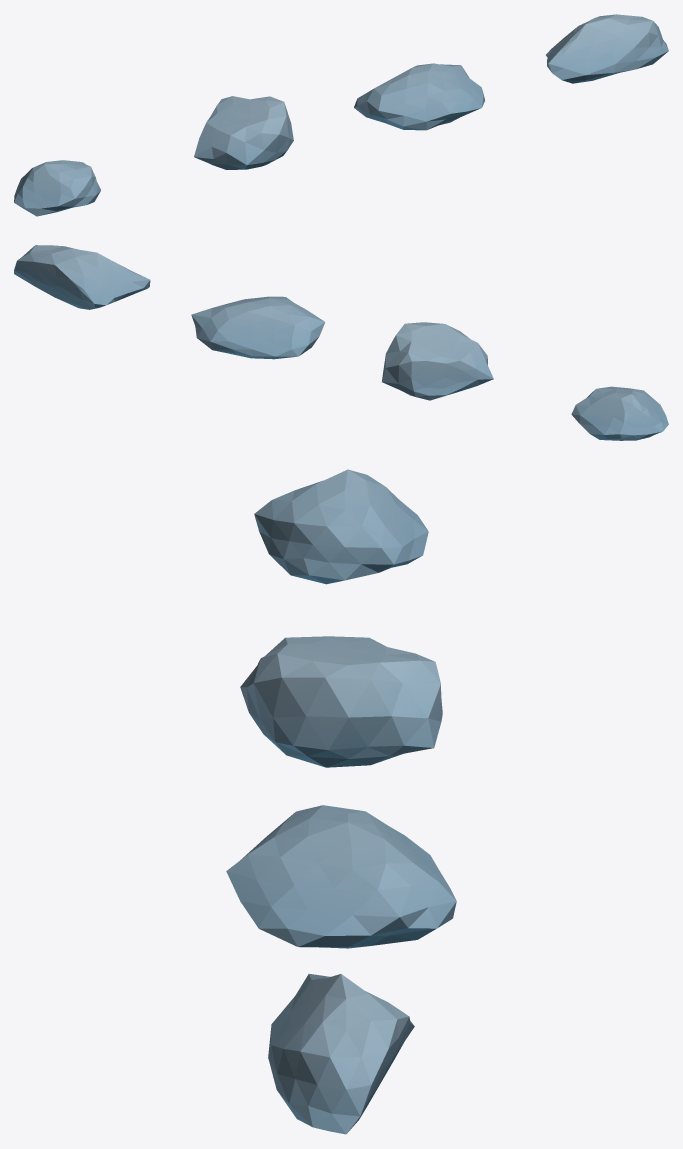
The model's file is brash-ice.glb.
3 views of the same model, one above another, from view 1: azimuth 30°, elevation 25°; view 2: azimuth 150°, elevation 25°; view 3: azimuth 270°, elevation 25° (orthographic). The views are drawn at different scales.
Parts seen in each view (by area): view 1: brash-2, brash-3, brash-1, brash-0; view 2: brash-1, brash-2, brash-3, brash-0; view 3: brash-2, brash-1, brash-3, brash-0.
Part boxes in pixels (x1,y1,x2,y2): brash-2: [354, 63, 485, 130]; brash-3: [546, 14, 668, 83]; brash-1: [194, 96, 293, 169]; brash-0: [14, 160, 100, 216]; brash-1: [382, 322, 493, 400]; brash-2: [191, 296, 325, 359]; brash-3: [14, 245, 150, 309]; brash-0: [571, 386, 668, 440]; brash-2: [226, 805, 456, 948]; brash-1: [240, 636, 442, 767]; brash-3: [268, 974, 414, 1134]; brash-0: [254, 469, 428, 584].
Size of the model in its own units: 7.15 by 0.55 by 1.1.
